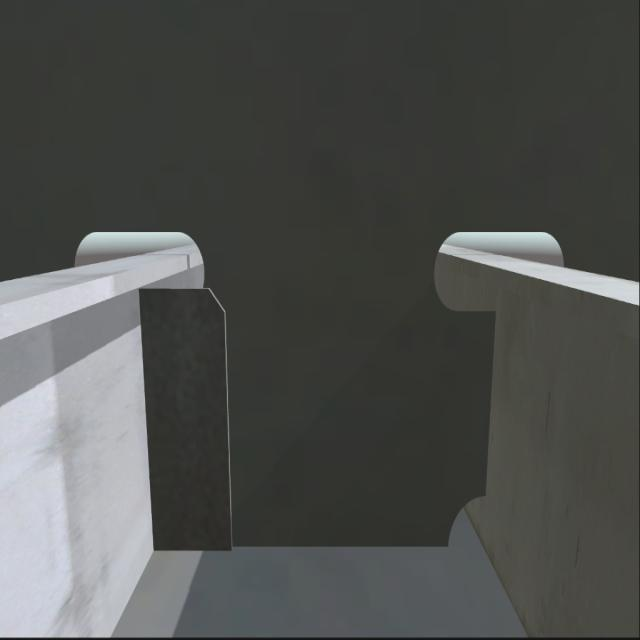fillet_hole: (444, 495, 484, 552)
fillet_yong_jeop_jang: (154, 536, 451, 558)
longi_yong_jeop_jang: (134, 280, 162, 557), (476, 304, 500, 500)
plate_CP03: (147, 290, 230, 559)
